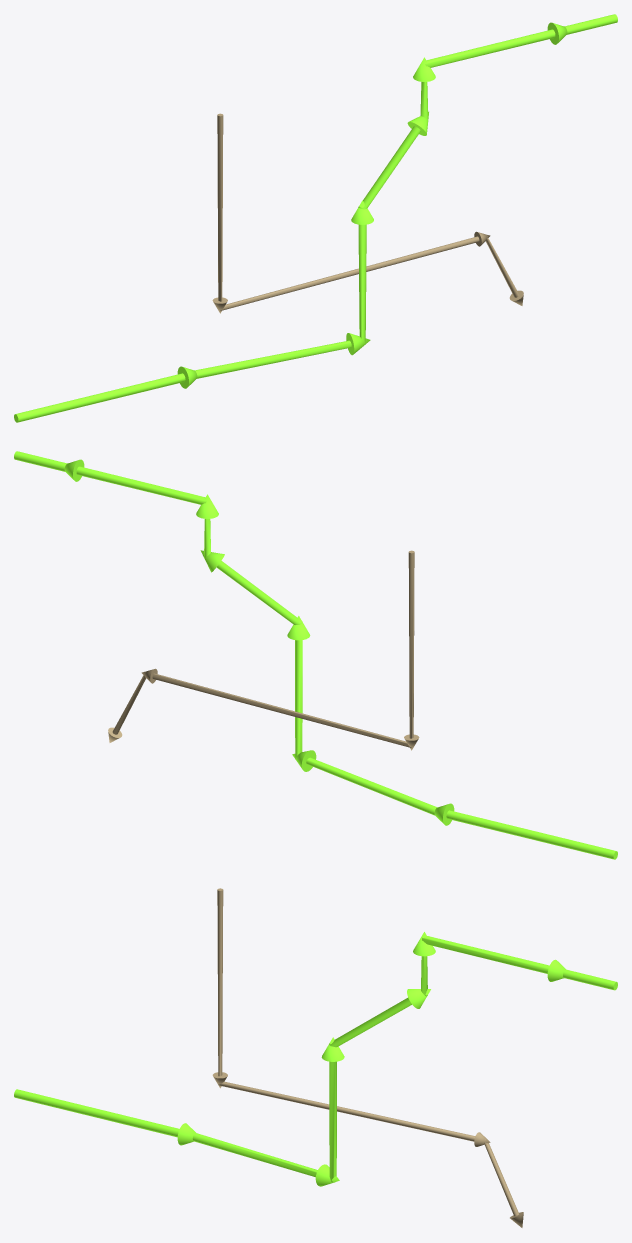
The model's file is fluidized_bed_dryer_flow.glb.
3 renders of one model, top to bottom at view 1: azimuth 30°, elevation 25°; view 2: azimuth 150°, elevation 25°; view 3: azimuth 330°, elevation 25°, orthographic.
Visible parts, largest first — view 1: hot_air, solids; view 2: hot_air, solids; view 3: hot_air, solids.
Part boxes in pixels (box(x1,y1,x2,y2)): hot_air: box(14, 14, 617, 422); solids: box(212, 113, 523, 313); hot_air: box(14, 451, 617, 859); solids: box(108, 550, 419, 750); hot_air: box(14, 932, 617, 1186); solids: box(212, 888, 523, 1227).
Bounding box in the file's own units: 4.7 × 2.06 × 0.356.
